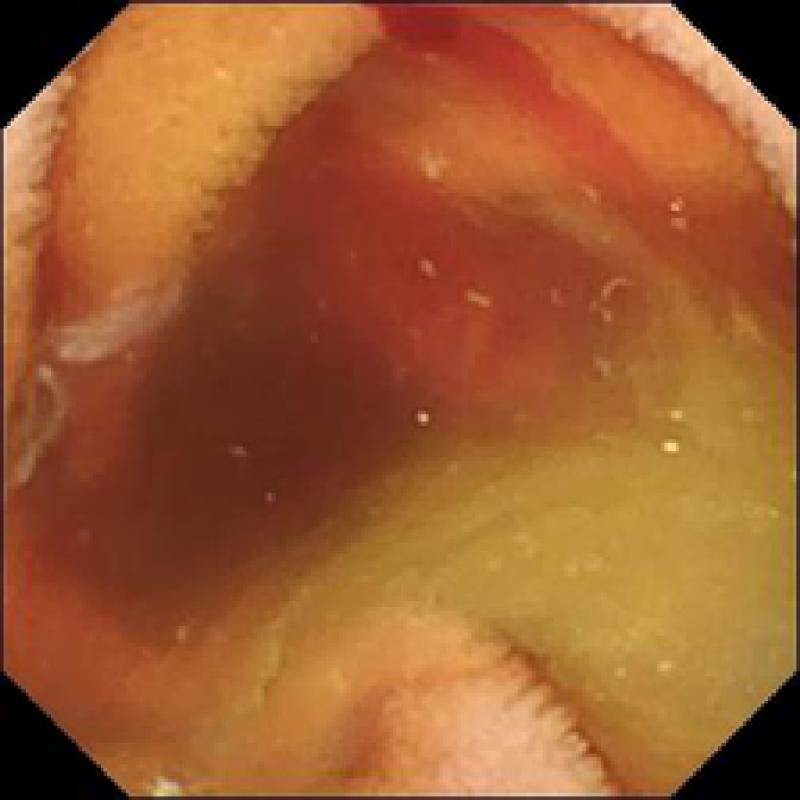bleeding: (224, 0, 739, 414)
